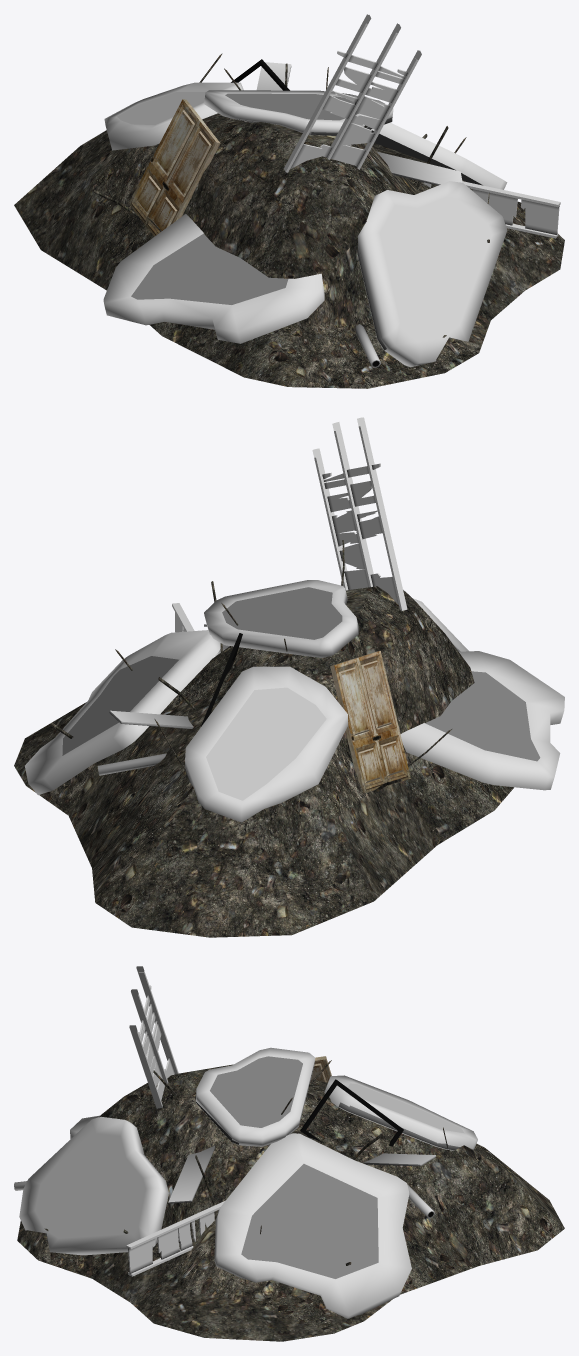
Rendered from Pile02b.FBX.
3 renders of one model, top to bottom at view 1: azimuth 30°, elevation 25°; view 2: azimuth 150°, elevation 25°; view 3: azimuth 270°, elevation 25°, orthographic. The views are drawn at different scales.
Parts seen in each view (by area): view 1: Pile, HomeShell, Edges, Door, Exterier; view 2: Pile, Edges, HomeShell, Door, Exterier; view 3: Pile, HomeShell, Edges, Exterier.
Boxes of the visible parts, bbox=[...] form: Pile: bbox=[14, 53, 564, 388]; HomeShell: bbox=[117, 14, 560, 367]; Edges: bbox=[103, 82, 507, 367]; Door: bbox=[128, 99, 220, 236]; Exterier: bbox=[231, 59, 462, 185]; Pile: bbox=[14, 540, 513, 937]; Edges: bbox=[25, 580, 564, 822]; HomeShell: bbox=[62, 417, 540, 800]; Door: bbox=[330, 651, 410, 793]; Exterier: bbox=[109, 624, 242, 728]; Pile: bbox=[17, 1060, 564, 1341]; HomeShell: bbox=[14, 966, 464, 1278]; Edges: bbox=[19, 1047, 477, 1318]; Exterier: bbox=[168, 1079, 436, 1203].
Size of the model in its own units: 6.11 by 3.9 by 7.08.
